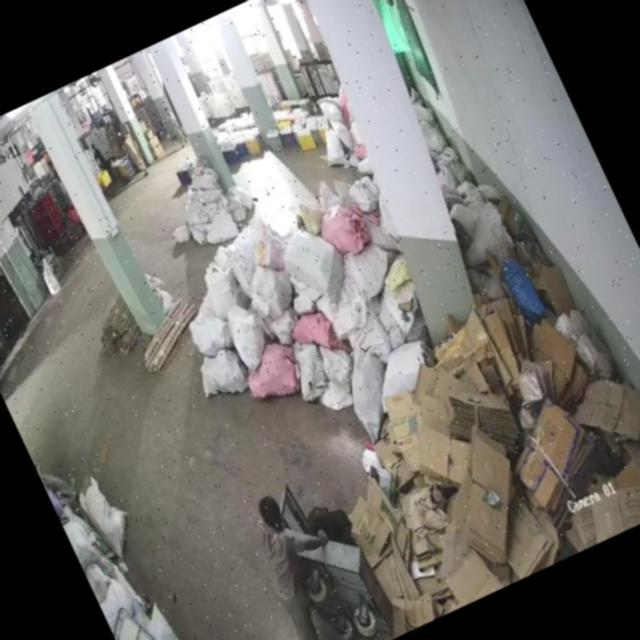person: (233, 486, 351, 640), (120, 134, 152, 182), (90, 142, 117, 184), (162, 105, 188, 148)
